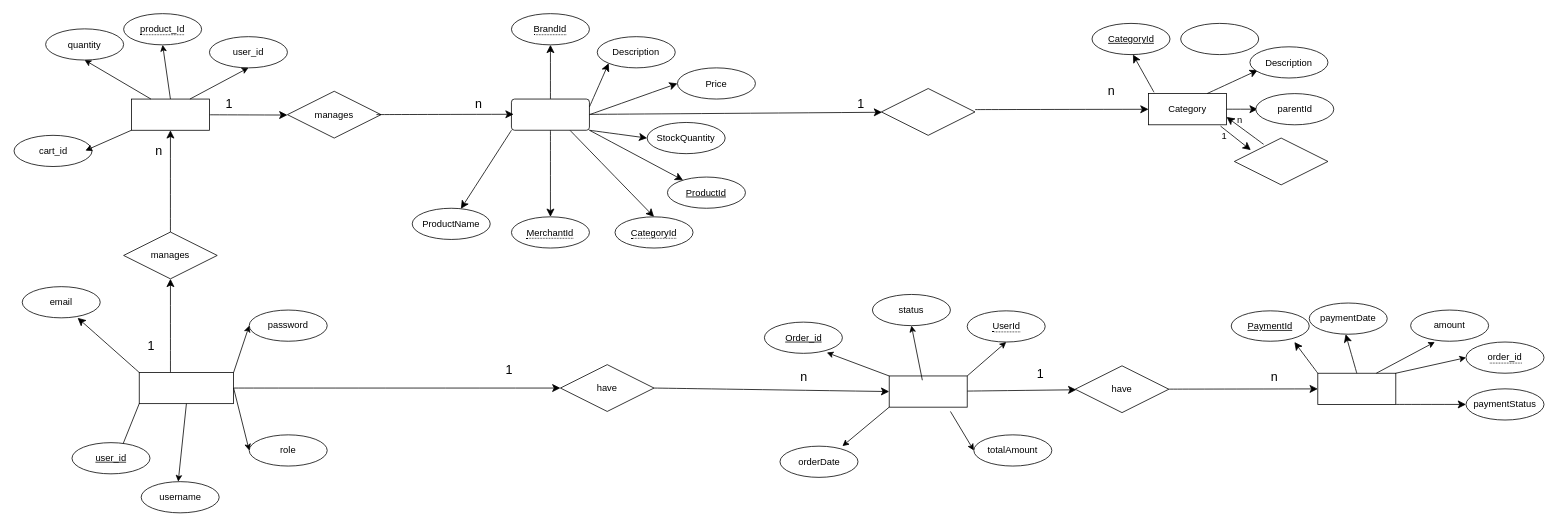
This 1558x527 diagram has some shape labels left out. The centre of each missing label's shape, as x and y in pixels:
"Cart" belongs at point 170,114.
"CategoryName" belongs at point 1219,39.
"has" belongs at point 928,111.
"Order" belongs at point 927,391.
"parent" belongs at point 1281,161.
"Payment" belongs at point 1356,388.
"Product" belongs at point 550,114.
"User" belongs at point 186,388.
